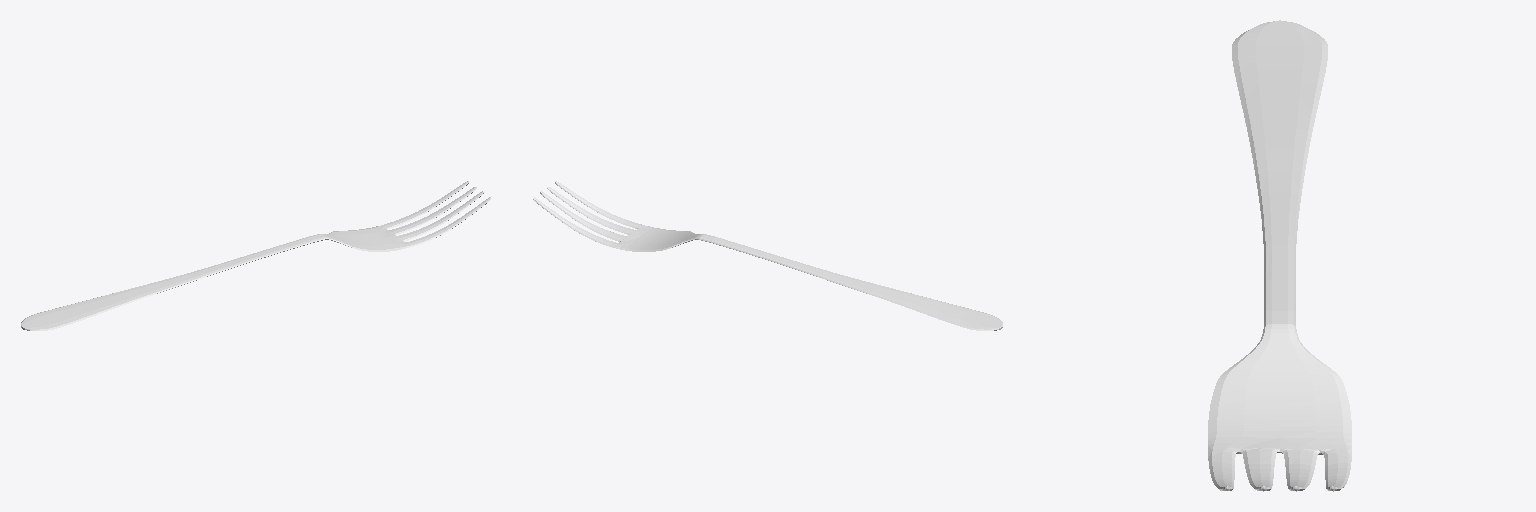
The robot description file, URDF, robot "world":
<?xml version="1.0" ?>
<robot name="world" version="1.0">
  <link name="world">
  </link>
  <joint name="dessert_fork_joint" type="fixed">
    <origin xyz="0.0 0.0 0.0" rpy="0.0 -0.0 0.0"/>
    <parent link="world"/>
    <child link="dessert_fork"/>
  </joint>
  <link name="dessert_fork">
    <inertial>
      <origin xyz="0.0 0.0 0.0" rpy="0.0 -0.0 0.0"/>
      <mass value="0.009999999776482582"/>
      <inertia ixx="0.0007999999797903001" ixy="0.0" ixz="0.0" iyy="0.0007999999797903001" iyz="0.0" izz="0.0001500000071246177"/>
    </inertial>
    <visual name="dessert_fork_visual">
      <geometry>
        <mesh filename="package://static_objects/dessert_fork/meshes/dae/DessertFork.dae"/>
      </geometry>
    </visual>
    <collision name="dessert_fork_collision_01">
      <geometry>
        <mesh filename="package://static_objects/dessert_fork/meshes/stl/UCX_DessertFork_01.stl"/>
      </geometry>
    </collision>
    <collision name="dessert_fork_collision_02">
      <geometry>
        <mesh filename="package://static_objects/dessert_fork/meshes/stl/UCX_DessertFork_02.stl"/>
      </geometry>
    </collision>
    <collision name="dessert_fork_collision_03">
      <geometry>
        <mesh filename="package://static_objects/dessert_fork/meshes/stl/UCX_DessertFork_03.stl"/>
      </geometry>
    </collision>
    <collision name="dessert_fork_collision_04">
      <geometry>
        <mesh filename="package://static_objects/dessert_fork/meshes/stl/UCX_DessertFork_04.stl"/>
      </geometry>
    </collision>
    <collision name="dessert_fork_collision_05">
      <geometry>
        <mesh filename="package://static_objects/dessert_fork/meshes/stl/UCX_DessertFork_05.stl"/>
      </geometry>
    </collision>
    <collision name="dessert_fork_collision_06">
      <geometry>
        <mesh filename="package://static_objects/dessert_fork/meshes/stl/UCX_DessertFork_06.stl"/>
      </geometry>
    </collision>
    <collision name="dessert_fork_collision_07">
      <geometry>
        <mesh filename="package://static_objects/dessert_fork/meshes/stl/UCX_DessertFork_07.stl"/>
      </geometry>
    </collision>
    <collision name="dessert_fork_collision_08">
      <geometry>
        <mesh filename="package://static_objects/dessert_fork/meshes/stl/UCX_DessertFork_08.stl"/>
      </geometry>
    </collision>
    <collision name="dessert_fork_collision_09">
      <geometry>
        <mesh filename="package://static_objects/dessert_fork/meshes/stl/UCX_DessertFork_09.stl"/>
      </geometry>
    </collision>
    <collision name="dessert_fork_collision_10">
      <geometry>
        <mesh filename="package://static_objects/dessert_fork/meshes/stl/UCX_DessertFork_10.stl"/>
      </geometry>
    </collision>
    <collision name="dessert_fork_collision_11">
      <geometry>
        <mesh filename="package://static_objects/dessert_fork/meshes/stl/UCX_DessertFork_11.stl"/>
      </geometry>
    </collision>
    <collision name="dessert_fork_collision_12">
      <geometry>
        <mesh filename="package://static_objects/dessert_fork/meshes/stl/UCX_DessertFork_12.stl"/>
      </geometry>
    </collision>
    <collision name="dessert_fork_collision_13">
      <geometry>
        <mesh filename="package://static_objects/dessert_fork/meshes/stl/UCX_DessertFork_13.stl"/>
      </geometry>
    </collision>
    <collision name="dessert_fork_collision_14">
      <geometry>
        <mesh filename="package://static_objects/dessert_fork/meshes/stl/UCX_DessertFork_14.stl"/>
      </geometry>
    </collision>
    <collision name="dessert_fork_collision_15">
      <geometry>
        <mesh filename="package://static_objects/dessert_fork/meshes/stl/UCX_DessertFork_15.stl"/>
      </geometry>
    </collision>
    <collision name="dessert_fork_collision_16">
      <geometry>
        <mesh filename="package://static_objects/dessert_fork/meshes/stl/UCX_DessertFork_16.stl"/>
      </geometry>
    </collision>
  </link>
</robot>

--- Facts derived from the render (not from the file) ---
3 views of the same robot in one strip: view 1: azimuth 30°, elevation 25°; view 2: azimuth 150°, elevation 25°; view 3: azimuth 270°, elevation 25° (orthographic).
Model world with 2 links and 1 joints (1 fixed), rooted at world, posed all joints at 0.
Visible links, largest first — view 1: dessert_fork; view 2: dessert_fork; view 3: dessert_fork.
Link boxes in pixels (left/top/right/bottom): dessert_fork: left=21, top=181, right=490, bottom=330; dessert_fork: left=533, top=181, right=1002, bottom=330; dessert_fork: left=1208, top=20, right=1351, bottom=491.
Bounding box of the posed robot: 0.1737 × 0.02 × 0.0103 m (x, y, z).
Meshes: 1 distinct files referenced, 1 mesh visuals loaded (1 Collada DAE).